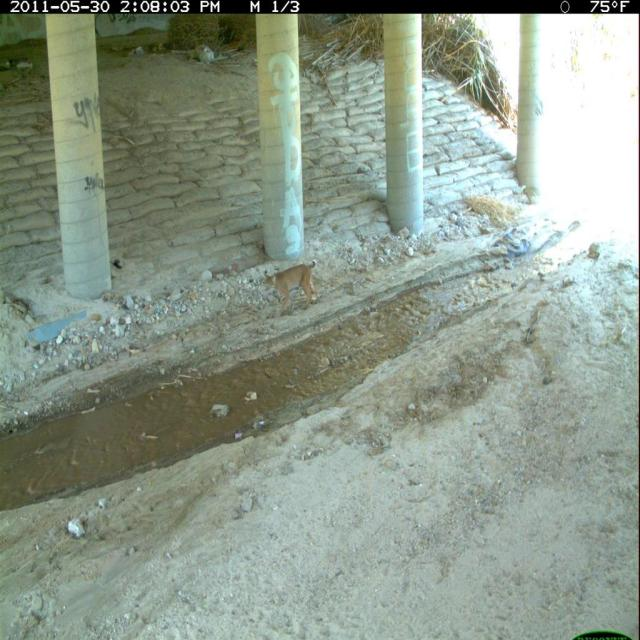bobcat: (262, 250, 322, 320)
